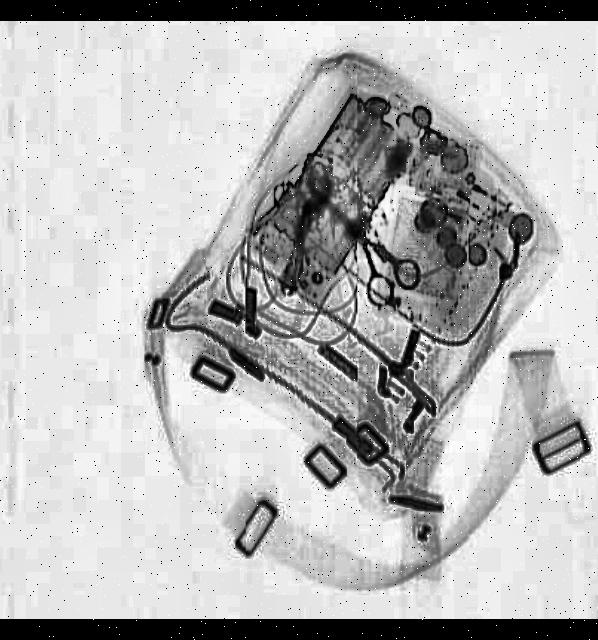Scissors: (316, 191, 430, 317)
